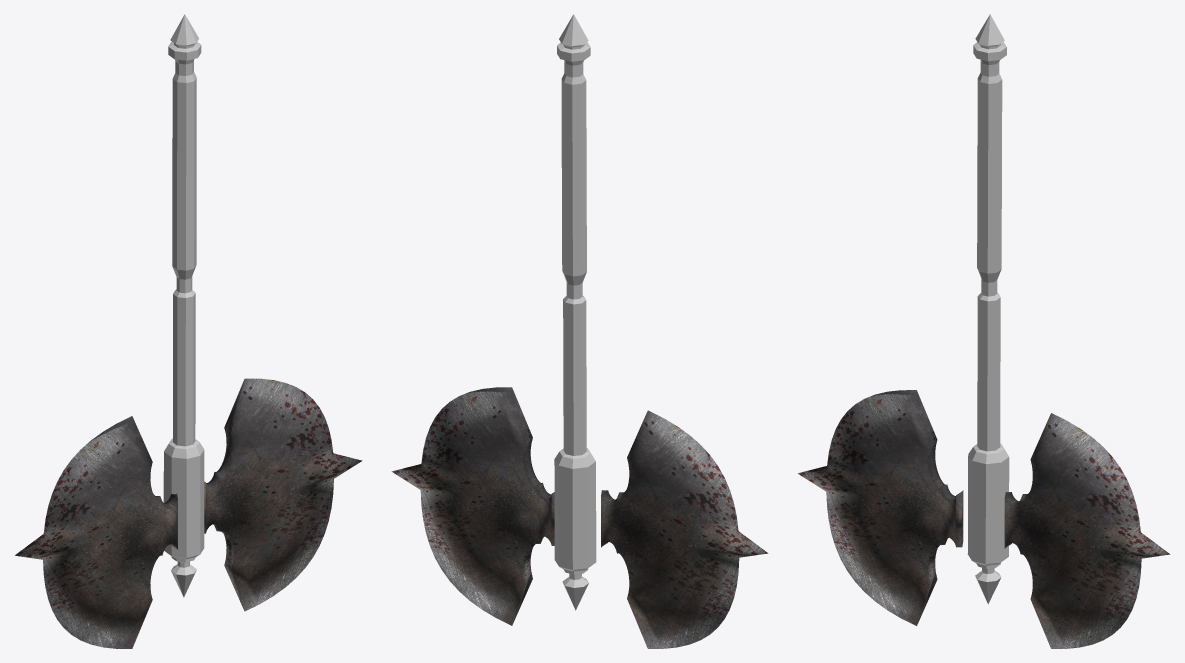
File: DOUBLE SIDED AXE.fbx
The picture shows the model from 3 angles, left to right: view 1: azimuth 30°, elevation 25°; view 2: azimuth 150°, elevation 25°; view 3: azimuth 330°, elevation 25°; orthographic projection. The views are drawn at different scales.
Visible parts, largest first — view 1: BezierCurve.000, Circle; view 2: BezierCurve.000, Circle; view 3: BezierCurve.000, Circle.
Part boxes in pixels (x1=…): BezierCurve.000: x1=15, y1=378, x2=362, y2=648; Circle: x1=163, y1=14, x2=204, y2=597; BezierCurve.000: x1=391, y1=387, x2=768, y2=648; Circle: x1=554, y1=14, x2=596, y2=610; BezierCurve.000: x1=798, y1=390, x2=1170, y2=648; Circle: x1=967, y1=14, x2=1009, y2=604.
Size of the model in its own units: 2573 by 4200 by 281.
